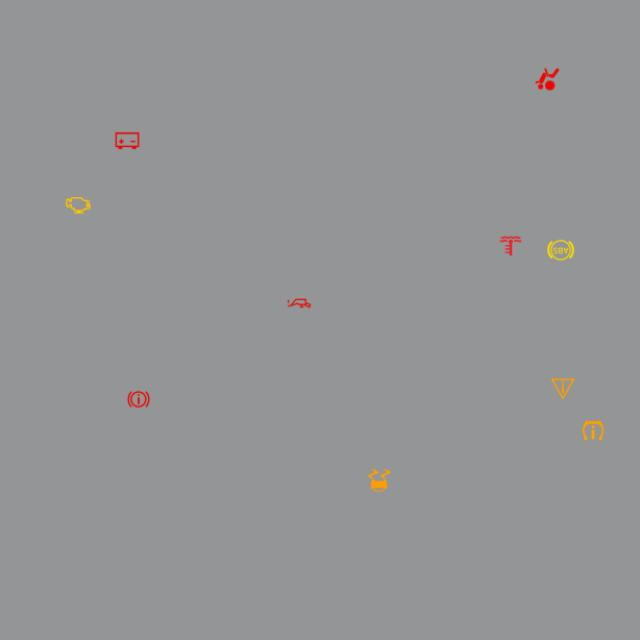Anti Lock Braking System: (546, 236, 576, 264)
Braking System Issue: (124, 384, 153, 414)
Charging System Issue: (112, 126, 142, 155)
Check Engine: (64, 191, 92, 220)
Electronic Stability Problem -ESP-: (365, 466, 394, 495)
Engine Overheating Warning Light: (496, 232, 525, 260)
Low Engine Oil Warning Light: (284, 289, 314, 318)
Low Tire Pressure Warning Light: (578, 416, 608, 445)
Master warning light: (548, 374, 578, 404)
SRS-Airbag: (532, 64, 562, 94)
